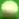white: (0, 0, 19, 19)
